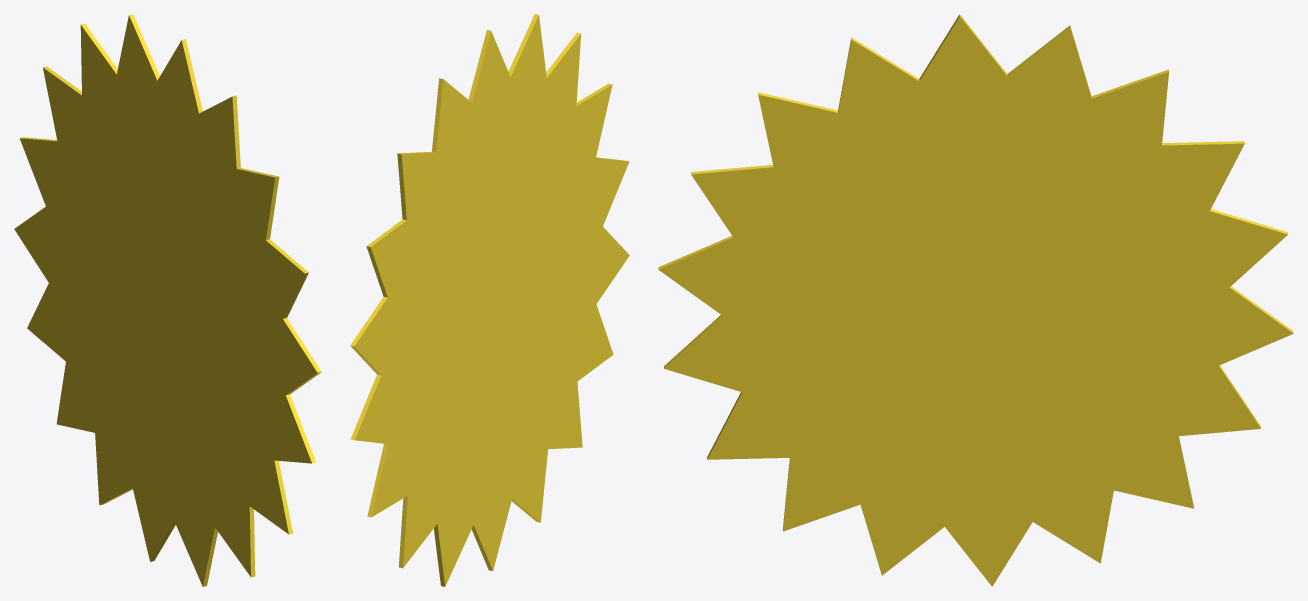
File: cark_yeni.fbx
3 renders of one model, left to right at view 1: azimuth 30°, elevation 25°; view 2: azimuth 150°, elevation 25°; view 3: azimuth 270°, elevation 25°, orthographic. The views are drawn at different scales.
Parts seen in each view (by area): view 1: çark; view 2: çark; view 3: çark.
Boxes of the visible parts, x1,y1,x2,y2 form: çark: [14, 14, 321, 586]; çark: [350, 14, 629, 586]; çark: [658, 14, 1293, 586].
Size of the model in its own units: 82.38 by 1734 by 1723.
